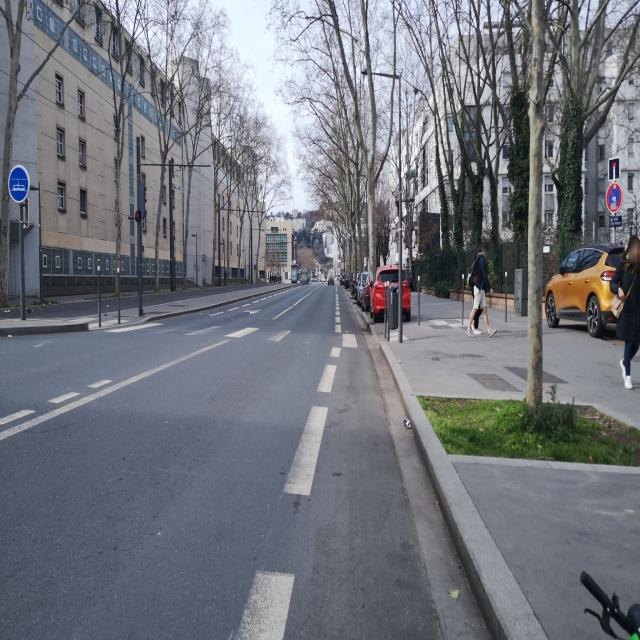forb_stopping: (607, 183, 615, 211)
